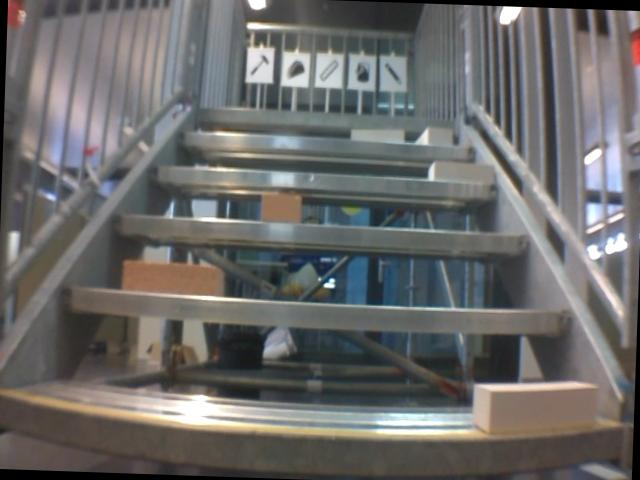brick: (472, 378, 599, 438), (122, 262, 225, 296), (429, 161, 492, 183), (261, 193, 300, 222), (415, 127, 452, 145), (350, 129, 403, 141)
bucket: (352, 60, 372, 86)
edge: (65, 289, 570, 335), (114, 213, 533, 253), (148, 166, 496, 198), (178, 131, 476, 159), (197, 107, 456, 130)
hammer: (245, 52, 271, 79)
pencil: (381, 59, 405, 85)
ruler: (315, 57, 341, 83)
taco: (282, 56, 306, 81)
